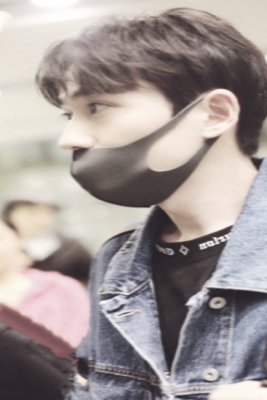mask_weared_incorrect: (58, 97, 205, 207)
